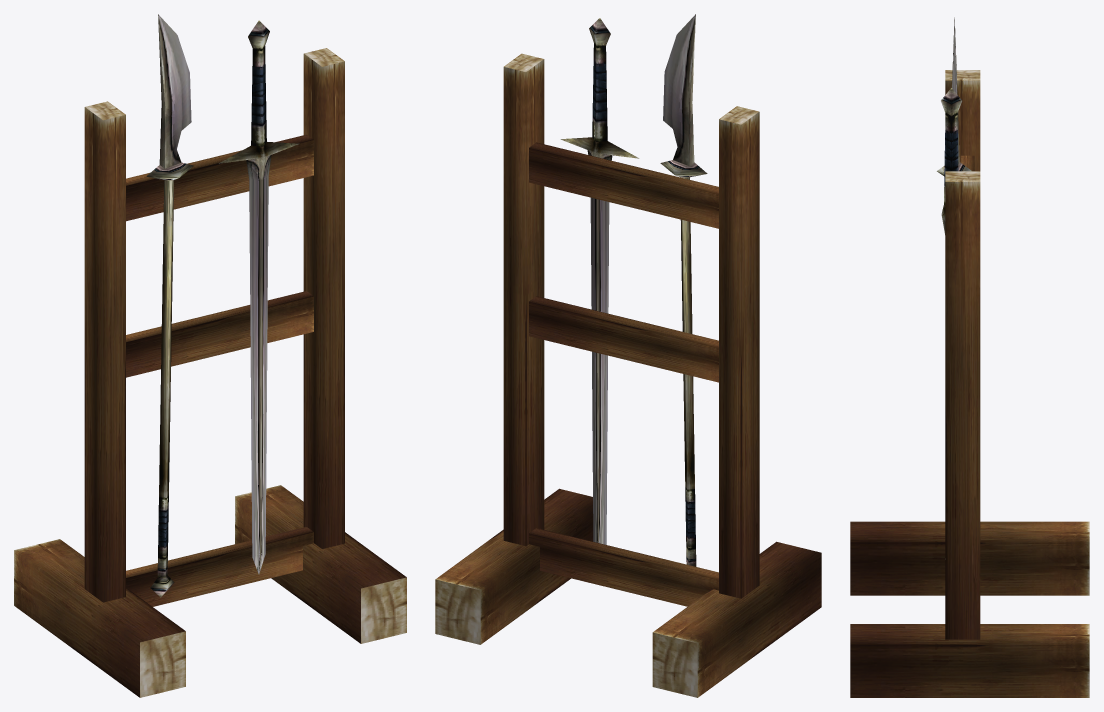
File: generalweaponrack01.obj
3 views of the same model, side by side, from view 1: azimuth 30°, elevation 25°; view 2: azimuth 150°, elevation 25°; view 3: azimuth 270°, elevation 25° (orthographic). The views are drawn at different scales.
Visible parts, largest first — view 1: 0, 1; view 2: 0, 1; view 3: 0, 1.
Part boxes in pixels (left/top/right/bottom): 0: left=14, top=48, right=406, bottom=697; 1: left=146, top=14, right=299, bottom=597; 0: left=435, top=53, right=821, bottom=697; 1: left=560, top=14, right=707, bottom=566; 0: left=850, top=70, right=1089, bottom=697; 1: left=937, top=17, right=971, bottom=559.
Size of the model in its own units: 1.29 by 2.91 by 1.06.
Materials: 2 (2 with a texture image).
